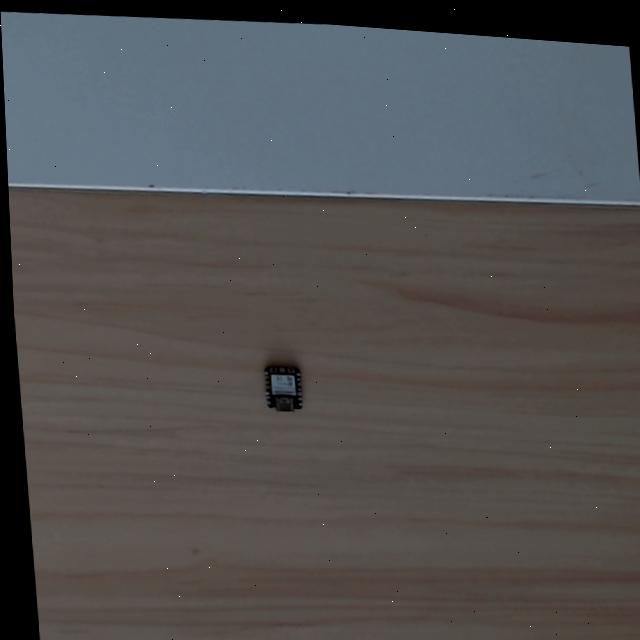ESP32C3-Xiao: (261, 363, 303, 415)
